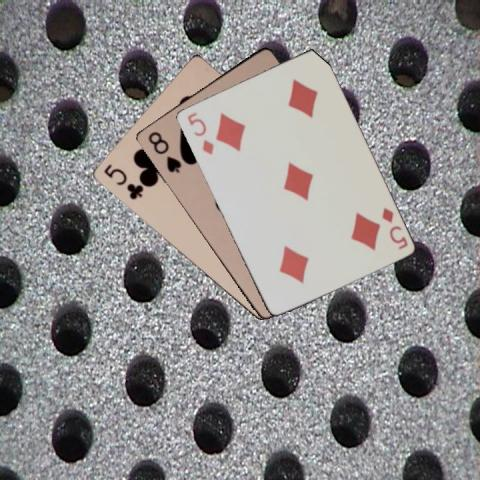5c: (100, 161, 144, 201)
5d: (184, 109, 216, 156), (378, 204, 409, 250)
8s: (144, 128, 183, 174)
